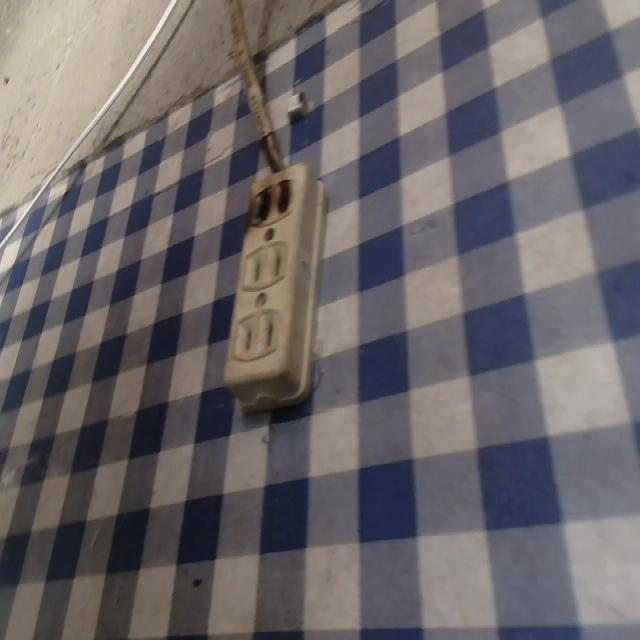-: (250, 178, 295, 230)
